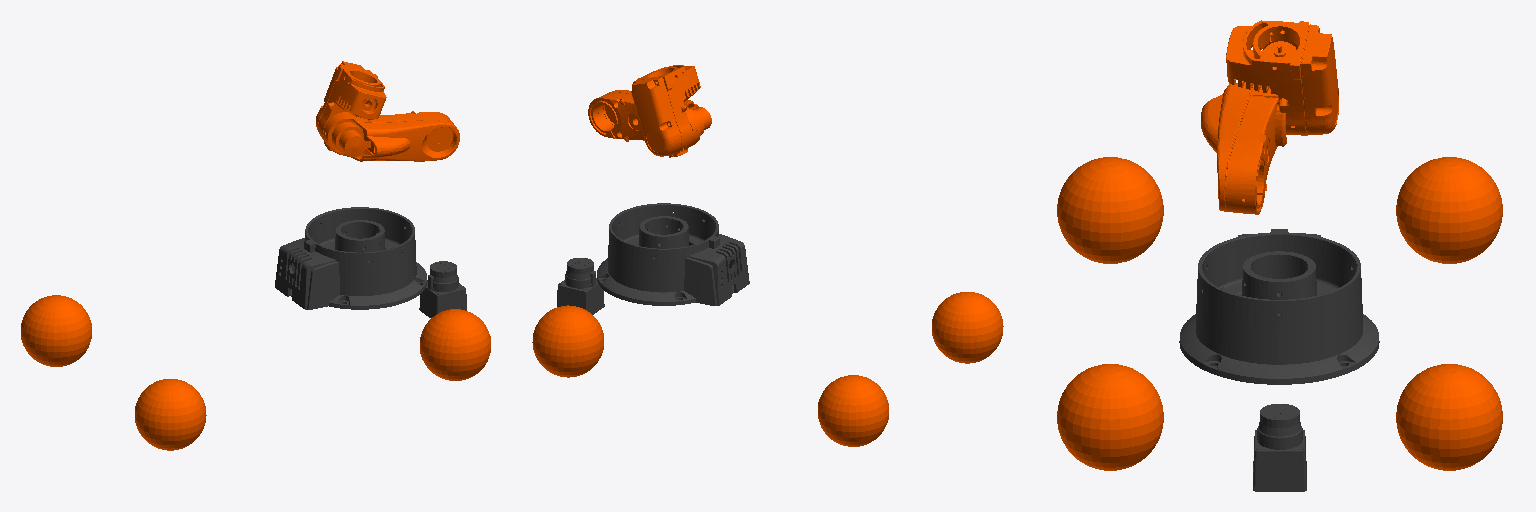
--- Facts derived from the render (not from the file) ---
3 views of the same robot in one strip: view 1: azimuth 30°, elevation 25°; view 2: azimuth 150°, elevation 25°; view 3: azimuth 270°, elevation 25° (orthographic).
Robot: youbot — 21 links, 20 joints (5 revolute, 8 continuous, 2 prismatic, 5 fixed); root link base_footprint; default pose: every joint at zero.
Visible links, largest first — view 1: arm_link_0, arm_link_3, wheel_link_fr, wheel_link_bl, wheel_link_br, arm_link_4, base_laser_front_link; view 2: arm_link_0, arm_link_4, wheel_link_bl, wheel_link_br, wheel_link_fl, arm_link_3, base_laser_front_link; view 3: arm_link_0, arm_link_4, wheel_link_fl, wheel_link_fr, wheel_link_bl, wheel_link_br, arm_link_3, base_laser_front_link.
Boxes of the visible links, left/top/right/bottom form: arm_link_0: left=275, top=207, right=427, bottom=309; arm_link_3: left=323, top=111, right=459, bottom=161; wheel_link_fr: left=420, top=309, right=490, bottom=380; wheel_link_bl: left=21, top=295, right=91, bottom=366; wheel_link_br: left=135, top=379, right=206, bottom=450; arm_link_4: left=316, top=61, right=386, bottom=151; base_laser_front_link: left=419, top=261, right=466, bottom=317; arm_link_0: left=597, top=203, right=749, bottom=305; arm_link_4: left=631, top=65, right=700, bottom=157; wheel_link_bl: left=818, top=375, right=888, bottom=446; wheel_link_br: left=932, top=292, right=1003, bottom=363; wheel_link_fl: left=532, top=305, right=603, bottom=377; arm_link_3: left=588, top=90, right=711, bottom=146; base_laser_front_link: left=557, top=258, right=604, bottom=314; arm_link_0: left=1179, top=229, right=1379, bottom=384; arm_link_4: left=1226, top=20, right=1338, bottom=135; wheel_link_fl: left=1396, top=364, right=1502, bottom=470; wheel_link_fr: left=1057, top=364, right=1163, bottom=470; wheel_link_bl: left=1396, top=157, right=1502, bottom=263; wheel_link_br: left=1057, top=157, right=1163, bottom=263; arm_link_3: left=1201, top=82, right=1286, bottom=214; base_laser_front_link: left=1253, top=404, right=1306, bottom=491.
Size in the robot's own frame: 0.603 by 0.416 by 0.4202 metres.
Meshes: 11 distinct files referenced, 4 mesh visuals loaded (4 Collada DAE); not drawn: 8 (reference not matched to a file when rendering).

URDF robot description (youbot):
<?xml version="1.0" ?>
<!-- =================================================================================== -->
<!-- |    This document was autogenerated by xacro from youbot.urdf.xacro              | -->
<!-- |    EDITING THIS FILE BY HAND IS NOT RECOMMENDED                                 | -->
<!-- =================================================================================== -->
<robot name="youbot" xmlns:controller="http://playerstage.sourceforge.net/gazebo/xmlschema/#controller" xmlns:interface="http://playerstage.sourceforge.net/gazebo/xmlschema/#interface" xmlns:sensor="http://playerstage.sourceforge.net/gazebo/xmlschema/#sensor" xmlns:xacro="http://playerstage.sourceforge.net/gazebo/xmlschema/#interface">
  &gt;
  <material name="Orange">
    <color rgba="1.0 0.4 0.0 1.0"/>
  </material>
  <material name="Grey">
    <color rgba="0.7 0.7 0.7 1.0"/>
  </material>
  <material name="DarkGrey">
    <color rgba="0.3 0.3 0.3 1.0"/>
  </material>
  <material name="White">
    <color rgba="1.0 1.0 1.0 1.0"/>
  </material>
  <material name="Black">
    <color rgba="0.0 0.0 0.0 1.0"/>
  </material>
  <material name="Red">
    <color rgba="1.0 0.0 0.0 1.0"/>
  </material>
  <material name="Green">
    <color rgba="0.0 1.0 0.0 1.0"/>
  </material>
  <!-- Now we can start using the macros included above to define the actual youbot -->
  <!-- The first use of a macro.  This one was defined in base.urdf.xacro above.
       A macro like this will expand to a set of link and joint definitions, and to additional
       Gazebo-related extensions (sensor plugins, etc).  The macro takes an argument, name, 
       that equals "base", and uses it to generate names for its component links and joints 
       (e.g., base_link).  The included origin block is also an argument to the macro.  By convention, 
       the origin block defines where the component is w.r.t its parent (in this case the parent 
       is the world frame). For more, see http://www.ros.org/wiki/xacro -->
  <link name="base_footprint">
    <inertial>
      <mass value="0.1"/>
      <origin rpy="0 0 0" xyz="0 0 -0.05"/>
      <inertia ixx="1.0" ixy="0.0" ixz="0.0" iyy="1.0" iyz="0.0" izz="1.0"/>
    </inertial>
    <visual>
      <origin rpy="0 0 0" xyz="0 0 0"/>
      <geometry>
        <box size="0.001 0.001 0.001"/>
      </geometry>
      <material name="Red"/>
    </visual>
    <collision>
      <origin rpy="0 0 0" xyz="0 0 -0.05"/>
      <geometry>
        <box size="0.001 0.001 0.001"/>
      </geometry>
    </collision>
  </link>
  <joint name="base_footprint_joint" type="fixed">
    <origin rpy="0 0 0" xyz="0 0 0"/>
    <child link="base_link"/>
    <parent link="base_footprint"/>
  </joint>
  <link name="base_link">
    <inertial>
      <mass value="22.0"/>
      <origin xyz="0 0 0"/>
      <inertia ixx="5.652232699207" ixy="-0.009719934438" ixz="1.293988226423" iyy="5.669473158652" iyz="-0.007379583694" izz="3.683196351726"/>
    </inertial>
    <visual>
      <origin rpy="0 0 0" xyz="0 0 0"/>
      <geometry>
        <mesh filename="youbot_meshes/youbot_base/base.dae"/>
      </geometry>
      <material name="DarkGrey"/>
    </visual>
    <collision>
      <origin rpy="0 0 0" xyz="0 0 0"/>
      <geometry>
        <!--<box size="${base_size_x} ${base_size_y} ${base_size_z}" />-->
        <mesh filename="youbot_meshes/youbot_base/base_convex.dae"/>
      </geometry>
    </collision>
  </link>
  <!-- base laser front -->
  <joint name="base_laser_front_hokuyo_urg04_laser_joint" type="fixed">
    <axis xyz="0 1 0"/>
    <origin rpy="0 0 0" xyz="0.3 0 -0.03"/>
    <parent link="base_link"/>
    <child link="base_laser_front_link"/>
  </joint>
  <link name="base_laser_front_link" type="laser">
    <inertial>
      <mass value="0.16"/>
      <origin rpy="0 0 0" xyz="0 0 0"/>
      <inertia ixx="0.1" ixy="0" ixz="0" iyy="0.1" iyz="0" izz="0.1"/>
    </inertial>
    <visual>
      <origin rpy="0 0 0" xyz="0 0 0"/>
      <geometry>
        <mesh filename="youbot_meshes/sensors/hokuyo.dae"/>
      </geometry>
      <material name="DarkGrey"/>
    </visual>
    <collision>
      <origin rpy="0 0 0" xyz="0 0 0"/>
      <geometry>
        <mesh filename="youbot_meshes/sensors/hokuyo_convex.dae"/>
      </geometry>
    </collision>
  </link>
  <gazebo reference="base_laser_front_link">
    <sensor name="base_laser_front" type="ray">
      <always_on>true</always_on>
      <update_rate>10</update_rate>
      <pose>0 0 0 0 0 0</pose>
      <visualize>false</visualize>
      <ray>
        <scan>
          <horizontal>
            <samples>150</samples>
            <resolution>1.0</resolution>
            <min_angle>-1.57</min_angle>
            <max_angle>1.57</max_angle>
          </horizontal>
        </scan>
        <range>
          <min>0.05</min>
          <max>5.6</max>
          <resolution>0.36</resolution>
        </range>
      </ray>
      <plugin filename="libgazebo_ros_laser.so" name="gazebo_ros_base_laser_front_controller">
        <gaussianNoise>0.005</gaussianNoise>
        <alwaysOn>true</alwaysOn>
        <updateRate>10</updateRate>
        <topicName>scan_front</topicName>
        <frameName>/base_laser_front_link</frameName>
      </plugin>
    </sensor>
  </gazebo>
  <!-- front left wheel -->
  <joint name="caster_joint_fl" type="continuous">
    <origin rpy="0 0 0" xyz="0.228 0.158 -0.034"/>
    <axis xyz="0 0 1"/>
    <limit effort="30" velocity="10"/>
    <dynamics damping="1.0" friction="1.0"/>
    <safety_controller k_velocity="10.0"/>
    <parent link="base_link"/>
    <child link="caster_link_fl"/>
  </joint>
  <link name="caster_link_fl">
    <inertial>
      <mass value="0.1"/>
      <origin xyz="0 0 0"/>
      <inertia ixx="0.012411765597" ixy="-0.000711733678" ixz="0.00050272983" iyy="0.015218160428" iyz="-0.000004273467" izz="0.011763977943"/>
    </inertial>
  </link>
  <joint name="wheel_joint_fl" type="continuous">
    <axis xyz="0 1 0"/>
    <limit effort="30" velocity="10"/>
    <origin rpy="0 0 0" xyz="0.0 0.0 0.0"/>
    <parent link="caster_link_fl"/>
    <dynamics damping="1.0" friction="1.0"/>
    <safety_controller k_velocity="10.0"/>
    <child link="wheel_link_fl"/>
  </joint>
  <link name="wheel_link_fl">
    <inertial>
      <mass value="0.4"/>
      <origin xyz="0 0 0"/>
      <inertia ixx="0.012411765597" ixy="-0.000711733678" ixz="0.00050272983" iyy="0.015218160428" iyz="-0.000004273467" izz="0.011763977943"/>
    </inertial>
    <visual>
      <origin rpy="0 0 0" xyz="0 0 0"/>
      <!--<mesh filename="youbot_meshes/youbot_base/youbot_wheel.stl" />-->
      <geometry>
        <sphere radius="0.05"/>
      </geometry>
      <material name="Orange"/>
    </visual>
    <collision>
      <origin rpy="1.57079632679 0 0" xyz="0 0 0"/>
      <geometry>
        <cylinder length="0.05" radius="0.05"/>
      </geometry>
    </collision>
  </link>
  <!-- front right wheel -->
  <joint name="caster_joint_fr" type="continuous">
    <origin rpy="0 0 0" xyz="0.228 -0.158 -0.034"/>
    <axis xyz="0 0 1"/>
    <limit effort="30" velocity="10"/>
    <dynamics damping="1.0" friction="1.0"/>
    <safety_controller k_velocity="10.0"/>
    <parent link="base_link"/>
    <child link="caster_link_fr"/>
  </joint>
  <link name="caster_link_fr">
    <inertial>
      <mass value="0.1"/>
      <origin xyz="0 0 0"/>
      <inertia ixx="0.012411765597" ixy="-0.000711733678" ixz="0.00050272983" iyy="0.015218160428" iyz="-0.000004273467" izz="0.011763977943"/>
    </inertial>
  </link>
  <joint name="wheel_joint_fr" type="continuous">
    <axis xyz="0 1 0"/>
    <limit effort="30" velocity="10"/>
    <dynamics damping="1.0" friction="1.0"/>
    <safety_controller k_velocity="10.0"/>
    <origin rpy="0 0 0" xyz="0.0 0.0 0.0"/>
    <parent link="caster_link_fr"/>
    <child link="wheel_link_fr"/>
  </joint>
  <link name="wheel_link_fr">
    <inertial>
      <mass value="0.4"/>
      <origin xyz="0 0 0"/>
      <inertia ixx="0.012411765597" ixy="-0.000711733678" ixz="0.00050272983" iyy="0.015218160428" iyz="-0.000004273467" izz="0.011763977943"/>
    </inertial>
    <visual>
      <origin rpy="0 0 0" xyz="0 0 0"/>
      <geometry>
        <!--<mesh filename="youbot_meshes/youbot_base/youbot_wheel.stl" />-->
        <sphere radius="0.05"/>
      </geometry>
      <material name="Orange"/>
    </visual>
    <collision>
      <origin rpy="1.57079632679 0 0" xyz="0 0 0"/>
      <geometry>
        <cylinder length="0.05" radius="0.05"/>
      </geometry>
    </collision>
  </link>
  <!-- back left wheel -->
  <joint name="caster_joint_bl" type="continuous">
    <origin rpy="0 0 0" xyz="-0.228 0.158 -0.034"/>
    <axis xyz="0 0 1"/>
    <limit effort="30" velocity="10"/>
    <dynamics damping="1.0" friction="1.0"/>
    <safety_controller k_velocity="10.0"/>
    <parent link="base_link"/>
    <child link="caster_link_bl"/>
  </joint>
  <link name="caster_link_bl">
    <inertial>
      <mass value="0.1"/>
      <origin xyz="0 0 0"/>
      <inertia ixx="0.012411765597" ixy="-0.000711733678" ixz="0.00050272983" iyy="0.015218160428" iyz="-0.000004273467" izz="0.011763977943"/>
    </inertial>
  </link>
  <joint name="wheel_joint_bl" type="continuous">
    <axis xyz="0 1 0"/>
    <limit effort="10" velocity="10"/>
    <limit effort="30" velocity="10"/>
    <dynamics damping="1.0" friction="1.0"/>
    <safety_controller k_velocity="10.0"/>
    <origin rpy="0 0 0" xyz="0.0 0.0 0.0"/>
    <parent link="caster_link_bl"/>
    <child link="wheel_link_bl"/>
  </joint>
  <link name="wheel_link_bl">
    <inertial>
      <mass value="0.4"/>
      <origin xyz="0 0 0"/>
      <inertia ixx="0.012411765597" ixy="-0.000711733678" ixz="0.00050272983" iyy="0.015218160428" iyz="-0.000004273467" izz="0.011763977943"/>
    </inertial>
    <visual>
      <origin rpy="0 0 0" xyz="0 0 0"/>
      <geometry>
        <!--<mesh filename="youbot_meshes/youbot_base/youbot_wheel.stl" />-->
        <sphere radius="0.05"/>
      </geometry>
      <material name="Orange"/>
    </visual>
    <collision>
      <origin rpy="1.57079632679 0 0" xyz="0 0 0"/>
      <geometry>
        <cylinder length="0.05" radius="0.05"/>
      </geometry>
    </collision>
  </link>
  <!-- back right wheel -->
  <joint name="caster_joint_br" type="continuous">
    <origin rpy="0 0 0" xyz="-0.228 -0.158 -0.034"/>
    <axis xyz="0 0 1"/>
    <limit effort="30" velocity="10"/>
    <dynamics damping="1.0" friction="1.0"/>
    <safety_controller k_velocity="10.0"/>
    <parent link="base_link"/>
    <child link="caster_link_br"/>
  </joint>
  <link name="caster_link_br">
    <inertial>
      <mass value="0.1"/>
      <origin xyz="0 0 0"/>
      <inertia ixx="0.012411765597" ixy="-0.000711733678" ixz="0.00050272983" iyy="0.015218160428" iyz="-0.000004273467" izz="0.011763977943"/>
    </inertial>
  </link>
  <joint name="wheel_joint_br" type="continuous">
    <axis xyz="0 1 0"/>
    <limit effort="30" velocity="10"/>
    <dynamics damping="1.0" friction="1.0"/>
    <safety_controller k_velocity="10.0"/>
    <origin rpy="0 0 0" xyz="0.0 0.0 0.0"/>
    <parent link="caster_link_br"/>
    <child link="wheel_link_br"/>
  </joint>
  <link name="wheel_link_br">
    <inertial>
      <mass value="0.4"/>
      <origin xyz="0 0 0"/>
      <inertia ixx="0.012411765597" ixy="-0.000711733678" ixz="0.00050272983" iyy="0.015218160428" iyz="-0.000004273467" izz="0.011763977943"/>
    </inertial>
    <visual>
      <origin rpy="0 0 0" xyz="0 0 0"/>
      <geometry>
        <!--<mesh filename="youbot_meshes/youbot_base/youbot_wheel.stl" />-->
        <sphere radius="0.05"/>
      </geometry>
      <material name="Orange"/>
    </visual>
    <collision>
      <origin rpy="1.57079632679 0 0" xyz="0 0 0"/>
      <geometry>
        <cylinder length="0.05" radius="0.05"/>
      </geometry>
    </collision>
  </link>
  <!-- joint between arm_7_link and sdh_palm_link -->
  <joint name="plate_joint" type="fixed">
    <origin rpy="0 0 0" xyz="-0.159 0 0.046"/>
    <parent link="base_link"/>
    <child link="plate_link"/>
  </joint>
  <link name="plate_link">
    <inertial>
      <origin rpy="0 0 0" xyz="0 0 0"/>
      <mass value="1"/>
      <inertia ixx="0.01" ixy="0" ixz="0" iyy="0.01" iyz="0" izz="0.01"/>
    </inertial>
    <visual>
      <origin rpy="0 0 0" xyz="0 0 0"/>
      <geometry>
        <mesh filename="youbot_meshes/youbot_plate/plate.dae"/>
      </geometry>
      <material name="DarkGrey"/>
    </visual>
    <collision>
      <origin rpy="0 0 0" xyz="0 0 0"/>
      <geometry>
        <mesh filename="youbot_meshes/youbot_plate/plate_convex.dae"/>
      </geometry>
    </collision>
  </link>
  <!-- extensions -->
  <!-- joint between base_link and arm_0_link -->
  <joint name="arm_joint_0" type="fixed">
    <origin rpy="0 0 0" xyz="0.143 0 0.046"/>
    <parent link="base_link"/>
    <child link="arm_link_0"/>
  </joint>
  <link name="arm_link_0">
    <inertial>
      <!--<origin xyz="0.023 0 0.006" rpy="0 0 0"/>-->
      <origin rpy="0 0 0" xyz="0 0 0"/>
      <mass value="0.845"/>
      <inertia ixx="0.01" ixy="0" ixz="0" iyy="0.01" iyz="0" izz="0.01"/>
    </inertial>
    <visual>
      <origin rpy="0 0 0" xyz="0 0 0"/>
      <geometry>
        <mesh filename="youbot_meshes/youbot_arm/arm0.dae"/>
      </geometry>
      <material name="DarkGrey"/>
    </visual>
    <collision>
      <!--<origin xyz="0.023 0 0.006" rpy="0 0 0"/>-->
      <origin rpy="0 0 0" xyz="0 0 0"/>
      <geometry>
        <mesh filename="youbot_meshes/youbot_arm/arm0_convex.dae"/>
        <!--<cylinder length="0.078" radius="0.093"/>-->
      </geometry>
    </collision>
  </link>
  <!-- joint between arm_0_link and arm_1_link -->
  <joint name="arm_joint_1" type="revolute">
    <origin rpy="0 0 2.96705972839" xyz="0.024 0 0.096"/>
    <parent link="arm_link_0"/>
    <child link="arm_link_1"/>
    <axis xyz="0 0 -1"/>
    <!--<calibration rising="${arm_1_ref}" falling="${arm_1_ref}"/>-->
    <dynamics damping="1" friction="1"/>
    <!-- damping - N*s/m, N*s*m/rad -->
    <!-- friction - N, N*m -->
    <limit effort="9.5" lower="0" upper="5.89921287174" velocity="1.57079632679"/>
    <!--effort - N, N*m-->
    <!--velocity - m/s, rad/s-->
    <safety_controller k_position="20" k_velocity="1.51197195937" soft_lower_limit="0.001" soft_upper_limit="5.89821287174"/>
    <!--k_position N/m, N/rad-->
    <!--k_velocity N*s/m, N*s*m/rad-->
    <!--for details: http://www.ros.org/wiki/pr2_controller_manager/safety_limits-->
  </joint>
  <link name="arm_link_1">
    <inertial>
      <mass value="2.412"/>
      <origin rpy="0 0 0" xyz="0.01489 0.00213 0.00213"/>
      <inertia ixx="0.003863" ixy="-0.000979" ixz="0.000000" iyy="0.006196" iyz="0.000000" izz="0.006369"/>
    </inertial>
    <visual>
      <origin rpy="0 0 0" xyz="0 0 0"/>
      <geometry>
        <mesh filename="youbot_meshes/youbot_arm/arm1.dae"/>
      </geometry>
      <!--<material name="Orange" />-->
    </visual>
    <collision>
      <!--<origin xyz="0 0 -0.003" rpy="0 0 0" />-->
      <origin rpy="0 0 0" xyz="0 0 0"/>
      <geometry>
        <mesh filename="youbot_meshes/youbot_arm/arm1_convex.dae"/>
        <!--<cylinder length="0.102" radius="0.080"/>-->
      </geometry>
    </collision>
  </link>
  <!-- joint between arm_1_link and arm_2_link -->
  <joint name="arm_joint_2" type="revolute">
    <origin rpy="0 -1.1344640138 0" xyz="0.033 0 0.019"/>
    <parent link="arm_link_1"/>
    <child link="arm_link_2"/>
    <axis xyz="0 1 0"/>
    <!--<calibration rising="${arm_2_ref}" falling="${arm_2_ref}"/>-->
    <dynamics damping="1" friction="1"/>
    <limit effort="9.5" lower="0" upper="2.70526034059" velocity="1.57079632679"/>
    <safety_controller k_position="20" k_velocity="6.04788783749" soft_lower_limit="0.001" soft_upper_limit="2.70426034059"/>
  </joint>
  <link name="arm_link_2">
    <inertial>
      <mass value="1.155"/>
      <origin rpy="0 0 0" xyz="0.10453 0.0017 -0.00297"/>
      <inertia ixx="0.000823" ixy="0.000000" ixz="-0.000000" iyy="0.004447" iyz="0.000000" izz="0.004439"/>
    </inertial>
    <visual>
      <origin rpy="0 0 0" xyz="0 -0.032 0.078"/>
      <geometry>
        <mesh filename="youbot_meshes/youbot_arm/arm2.dae"/>
      </geometry>
      <material name="Orange"/>
    </visual>
    <collision>
      <!--<origin xyz="0.001 -0.041 0.074" rpy="0 0 0" />-->
      <origin rpy="0 0 0" xyz="0 -0.032 0.078"/>
      <geometry>
        <mesh filename="youbot_meshes/youbot_arm/arm2_convex.dae"/>
        <!--<box size="0.074 0.082 0.222"/>-->
      </geometry>
    </collision>
  </link>
  <!-- joint between arm_2_link and arm_3_link -->
  <!--<joint name="${name}_joint_3" type="revolute">
			<origin xyz="0.000 0.000 0.155" rpy="0 ${146 * M_PI / 180} 0"/>
			<parent link="${name}_link_2"/>
			<child link="${name}_link_3"/>
			<axis xyz="0 1 0"/>
			<dynamics damping="1" friction="1" />
			<limit effort="${6}" velocity="${M_PI / 2.0}" lower="-${joint_3_limit}" upper="0"/>
                        <safety_controller k_position="20" k_velocity="50" soft_lower_limit="-${joint_3_limit_soft}" soft_upper_limit="${threshold}" />
		</joint>-->
  <joint name="arm_joint_3" type="revolute">
    <origin rpy="0 2.54818070791 0" xyz="0.000 0.000 0.155"/>
    <parent link="arm_link_2"/>
    <child link="arm_link_3"/>
    <axis xyz="0 1 0"/>
    <dynamics damping="1" friction="1"/>
    <limit effort="6" lower="-5.18362787842" upper="0" velocity="1.57079632679"/>
    <safety_controller k_position="20" k_velocity="50" soft_lower_limit="-5.18262787842" soft_upper_limit="-0.001"/>
  </joint>
  <link name="arm_link_3">
    <inertial>
      <mass value="0.934"/>
      <origin rpy="0 0 0" xyz="0.0001 0.0967 0.02107"/>
      <inertia ixx="0.002459" ixy="0.000000" ixz="0.000000" iyy="0.002571" iyz="-0.000000" izz="0.000535"/>
    </inertial>
    <visual>
      <origin rpy="0 0 0" xyz="0.000 0.028 0.079"/>
      <geometry>
        <mesh filename="youbot_meshes/youbot_arm/arm3.dae"/>
      </geometry>
      <material name="Orange"/>
    </visual>
    <collision>
      <!--<origin xyz="0.000 0.025 0.067" rpy="0 0 0" />-->
      <origin rpy="0 0 0" xyz="0.000 0.028 0.079"/>
      <geometry>
        <mesh filename="youbot_meshes/youbot_arm/arm3_convex.dae"/>
        <!--<box size="0.064 0.054 0.192"/>-->
      </geometry>
    </collision>
  </link>
  <!-- joint between arm_3_link and arm_4_link -->
  <joint name="arm_joint_4" type="revolute">
    <origin rpy="0 -1.78896248329 0" xyz="0.000 0.000 0.135"/>
    <parent link="arm_link_3"/>
    <child link="arm_link_4"/>
    <axis xyz="0 1 0"/>
    <!--<calibration rising="${arm_4_ref}" falling="${arm_4_ref}"/>-->
    <dynamics damping="1" friction="1"/>
    <limit effort="2" lower="0" upper="3.57792496659" velocity="1.57079632679"/>
    <safety_controller k_position="20" k_velocity="100" soft_lower_limit="0" soft_upper_limit="3.57692496659"/>
  </joint>
  <link name="arm_link_4">
    <inertial>
      <mass value="0.877"/>
      <origin rpy="0 0 0" xyz="0.00011 0.05103 -0.02319"/>
      <inertia ixx="0.000869" ixy="0.000000" ixz="-0.000000" iyy="0.001173" iyz="-0.000231" izz="0.001091"/>
    </inertial>
    <visual>
      <origin rpy="0 0 0" xyz="0 -0.010 0.029"/>
      <geometry>
        <mesh filename="youbot_meshes/youbot_arm/arm4.dae"/>
      </geometry>
      <material name="Orange"/>
    </visual>
    <collision>
      <!--<origin xyz="0 0 0.026" rpy="0 0 0" />-->
      <origin rpy="0 0 0" xyz="0 -0.010 0.029"/>
      <geometry>
        <mesh filename="youbot_meshes/youbot_arm/arm4_convex.dae"/>
        <!--<box size="0.058 0.100 0.118"/>-->
      </geometry>
    </collision>
  </link>
  <!-- joint between arm_4_link and arm_5_link -->
  <joint name="arm_joint_5" type="revolute">
    <origin rpy="0 0 2.92342649709" xyz="-0.002 0 0.130"/>
    <parent link="arm_link_4"/>
    <child link="arm_link_5"/>
    <axis xyz="0 0 -1"/>
    <!--<calibration rising="${arm_5_ref}" falling="${arm_5_ref}"/>-->
    <dynamics damping="1" friction="1"/>
    <limit effort="1" lower="0" upper="5.84685299418" velocity="1.57079632679"/>
    <safety_controller k_position="20" k_velocity="100" soft_lower_limit="0" soft_upper_limit="5.84585299418"/>
  </joint>
  <link name="arm_link_5">
    <inertial>
      <mass value="0.251"/>
      <origin rpy="0 0 0" xyz="0.0 0.00115 -0.01683"/>
      <inertia ixx="0.000280" ixy="0.000000" ixz="0.000000" iyy="0.000339" iyz="0.000000" izz="0.000119"/>
    </inertial>
    <visual>
      <origin rpy="0 0 0" xyz="0.003 0 -0.034"/>
      <geometry>
        <mesh filename="youbot_meshes/youbot_arm/arm5.dae"/>
      </geometry>
      <material name="DarkGrey"/>
    </visual>
    <collision>
      <origin rpy="0 0 0" xyz="0.003 0 -0.034"/>
      <geometry>
        <mesh filename="youbot_meshes/youbot_arm/arm5_convex.dae"/>
        <!--<box size="0.054 0.096 0.030"/>-->
      </geometry>
    </collision>
  </link>
  <gazebo reference="arm_link_0">
    <material value="youbot/DarkGrey"/>
    <turnGravityOff>false</turnGravityOff>
  </gazebo>
  <gazebo reference="arm_link_1">
    <!--<material value="youbot/Orange" />-->
    <turnGravityOff>false</turnGravityOff>
  </gazebo>
  <gazebo reference="arm_link_2">
    <!--<material value="youbot/Orange" />-->
    <turnGravityOff>false</turnGravityOff>
  </gazebo>
  <gazebo reference="arm_link_3">
    <!--<material value="youbot/Orange" />-->
    <turnGravityOff>false</turnGravityOff>
  </gazebo>
  <gazebo reference="arm_link_4">
    <!--<material value="youbot/Orange" />-->
    <turnGravityOff>false</turnGravityOff>
  </gazebo>
  <gazebo reference="arm_link_5">
    <!--<material value="youbot/DarkGrey" />-->
    <turnGravityOff>false</turnGravityOff>
  </gazebo>
  <transmission name="arm_trans_1" type="pr2_mechanism_model/SimpleTransmission">
    <actuator name="arm_motor_1"/>
    <joint name="arm_joint_1"/>
    <mechanicalReduction>1</mechanicalReduction>
  </transmission>
  <transmission name="arm_trans_2" type="pr2_mechanism_model/SimpleTransmission">
    <actuator name="arm_motor_2"/>
    <joint name="arm_joint_2"/>
    <mechanicalReduction>1</mechanicalReduction>
  </transmission>
  <transmission name="arm_trans_3" type="pr2_mechanism_model/SimpleTransmission">
    <actuator name="arm_motor_3"/>
    <joint name="arm_joint_3"/>
    <mechanicalReduction>1</mechanicalReduction>
  </transmission>
  <transmission name="arm_trans_4" type="pr2_mechanism_model/SimpleTransmission">
    <actuator name="arm_motor_4"/>
    <joint name="arm_joint_4"/>
    <mechanicalReduction>1</mechanicalReduction>
  </transmission>
  <transmission name="arm_trans_5" type="pr2_mechanism_model/SimpleTransmission">
    <actuator name="arm_motor_5"/>
    <joint name="arm_joint_5"/>
    <mechanicalReduction>1</mechanicalReduction>
  </transmission>
  <!-- joint between arm_7_link and sdh_palm_link -->
  <joint name="gripper_palm_joint" type="fixed">
    <origin rpy="0 0 0" xyz="0 0 0"/>
    <parent link="arm_link_5"/>
    <child link="gripper_palm_link"/>
  </joint>
  <link name="gripper_palm_link">
    <inertial>
      <origin rpy="0 0 0" xyz="0 0 0"/>
      <mass value="0.1"/>
      <inertia ixx="0.01" ixy="0" ixz="0" iyy="0.01" iyz="0" izz="0.01"/>
    </inertial>
    <visual>
      <origin rpy="0 0 0" xyz="0 0 0"/>
      <geometry>
        <mesh filename="youbot_meshes/youbot_gripper/palm.dae"/>
      </geometry>
      <material name="Black"/>
    </visual>
    <collision>
      <origin rpy="0 0 0" xyz="0 0 0"/>
      <geometry>
        <!--<box size="0.050 0.094 0.054"/>-->
        <mesh filename="youbot_meshes/youbot_gripper/palm_convex.dae"/>
      </geometry>
    </collision>
  </link>
  <joint name="gripper_finger_joint_l" type="prismatic">
    <origin rpy="0 0 3.14159265359" xyz="0.004 0.008 0.046"/>
    <parent link="gripper_palm_link"/>
    <child link="gripper_finger_link_l"/>
    <axis xyz="0 -1 0"/>
    <dynamics damping="1.0" friction="1.0"/>
    <limit effort="1" lower="0" upper="0.0115" velocity="0.1"/>
    <safety_controller k_position="20" k_velocity="25" soft_lower_limit="0.001" soft_upper_limit="0.011"/>
  </joint>
  <link name="gripper_finger_link_l">
    <inertial>
      <origin rpy="0 0 0" xyz="0 -0.001 0"/>
      <mass value="0.01"/>
      <inertia ixx="0.01" ixy="0" ixz="0" iyy="0.01" iyz="0" izz="0.01"/>
    </inertial>
    <visual>
      <origin rpy="0 0 0" xyz="0 0 0"/>
      <geometry>
        <mesh filename="youbot_meshes/youbot_gripper/finger.dae"/>
      </geometry>
      <material name="Black"/>
    </visual>
    <collision>
      <origin rpy="0 0 0" xyz="0 0 0"/>
      <geometry>
        <!--<box size="0.014 0.020 0.046"/>-->
        <mesh filename="youbot_meshes/youbot_gripper/finger_convex.dae"/>
      </geometry>
    </collision>
  </link>
  <joint name="gripper_finger_joint_r" type="prismatic">
    <origin rpy="0 0 0" xyz="0.004 -0.008 0.046"/>
    <parent link="gripper_palm_link"/>
    <child link="gripper_finger_link_r"/>
    <axis xyz="0 -1 0"/>
    <dynamics damping="1.0" friction="1.0"/>
    <limit effort="1" lower="0" upper="0.0115" velocity="0.1"/>
    <safety_controller k_position="20" k_velocity="25" soft_lower_limit="0.001" soft_upper_limit="0.011"/>
  </joint>
  <link name="gripper_finger_link_r">
    <inertial>
      <origin rpy="0 0 0" xyz="0.000 -0.001 0"/>
      <mass value="0.01"/>
      <inertia ixx="0.01" ixy="0" ixz="0" iyy="0.01" iyz="0" izz="0.01"/>
    </inertial>
    <visual>
      <origin rpy="0 0 0" xyz="0 0 0"/>
      <geometry>
        <mesh filename="youbot_meshes/youbot_gripper/finger.dae"/>
      </geometry>
      <material name="Black"/>
    </visual>
    <collision>
      <origin rpy="0 0 0" xyz="0.000 0 0"/>
      <geometry>
        <!--<box size="0.014 0.020 0.046"/>-->
        <mesh filename="youbot_meshes/youbot_gripper/finger_convex.dae"/>
      </geometry>
    </collision>
  </link>
</robot>
